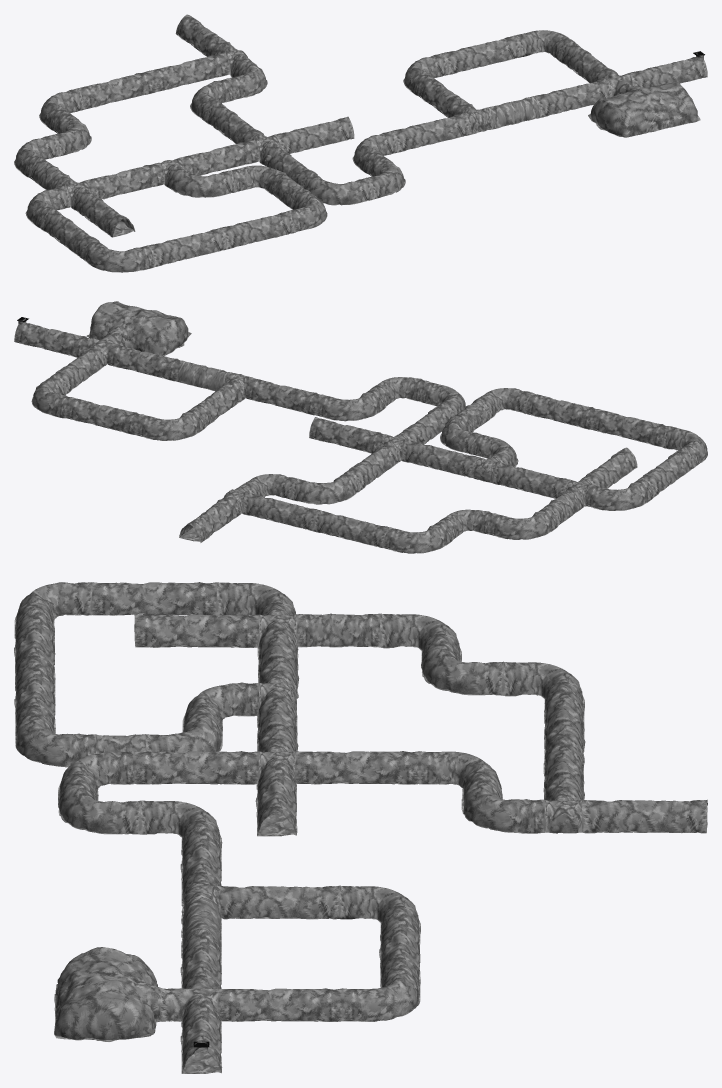
File: modee_tunnel_FINAL_FINAL.fbx
3 views of the same model, one above another, from view 1: azimuth 30°, elevation 25°; view 2: azimuth 150°, elevation 25°; view 3: azimuth 270°, elevation 25° (orthographic). The views are drawn at different scales.
Visible parts, largest first — view 1: Plane.004; view 2: Plane.004; view 3: Plane.004.
Part boxes in pixels (x1=…): Plane.004: x1=14, y1=14, x2=707, y2=272; Plane.004: x1=14, y1=301, x2=707, y2=553; Plane.004: x1=14, y1=582, x2=707, y2=1073.
Bounding box in the file's own units: 19884 × 782 × 12232.
88 materials, 86 textured.
